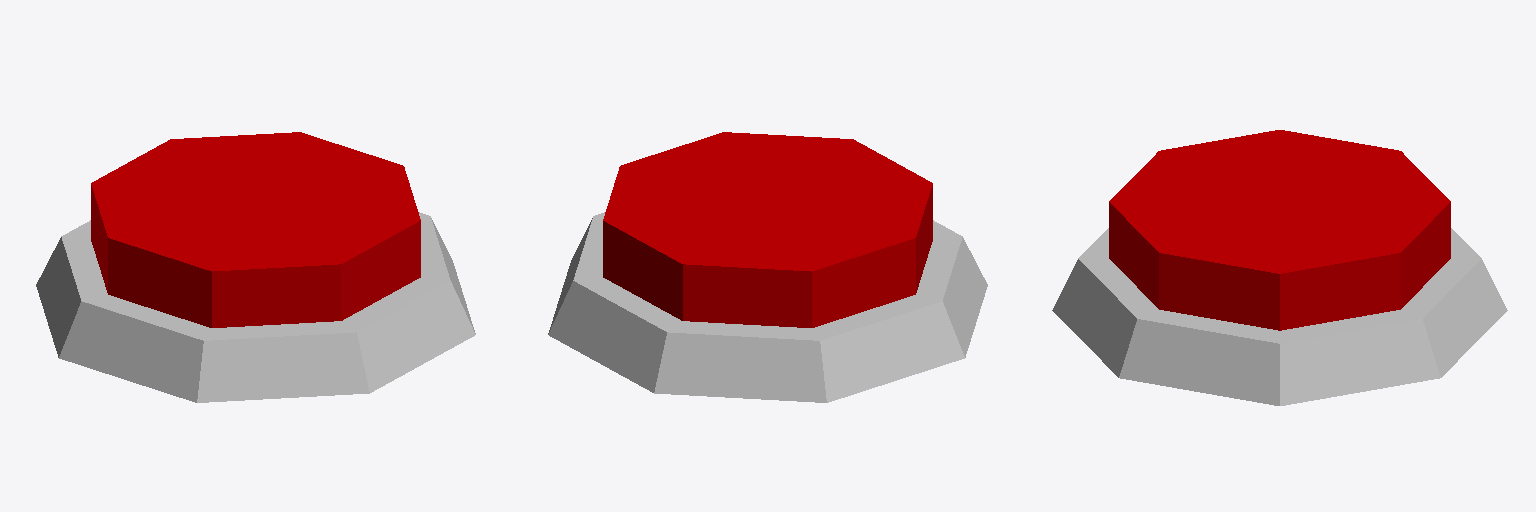
Rendered from Button_Inactive.obj.
3 renders of one model, left to right at view 1: azimuth 30°, elevation 25°; view 2: azimuth 150°, elevation 25°; view 3: azimuth 270°, elevation 25°, orthographic.
Parts seen in each view (by area): view 1: Cylinder_Cylinder.001, Base_Cylinder; view 2: Cylinder_Cylinder.001, Base_Cylinder; view 3: Cylinder_Cylinder.001, Base_Cylinder.
Part boxes in pixels (x1,y1,x2,y2): Cylinder_Cylinder.001: (91,132,420,327); Base_Cylinder: (36,212,475,402); Cylinder_Cylinder.001: (603,132,932,327); Base_Cylinder: (548,212,987,402); Cylinder_Cylinder.001: (1109,130,1450,330); Base_Cylinder: (1052,228,1507,405).
Bounding box in the file's own units: 4 × 1.05 × 4.